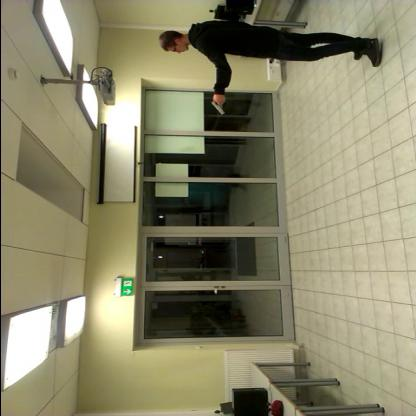Pistol: (202, 98, 231, 120)
